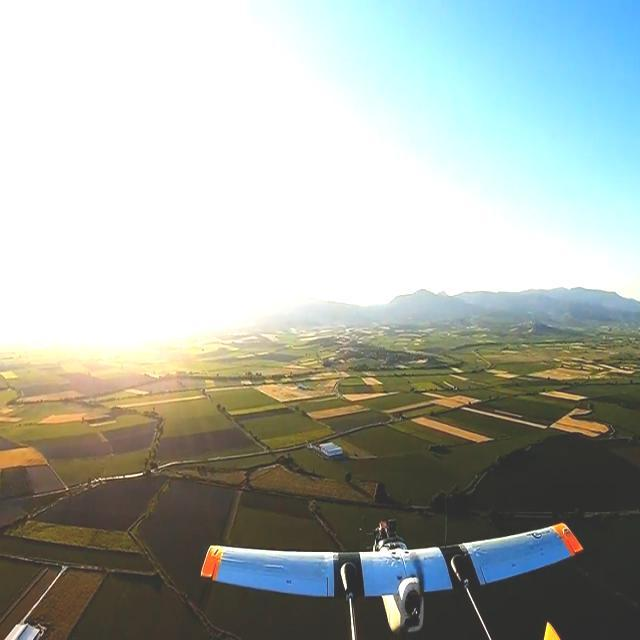iha: (189, 551, 587, 608)
